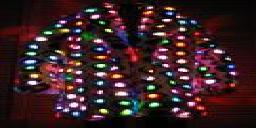LED: (13, 4, 239, 120)
